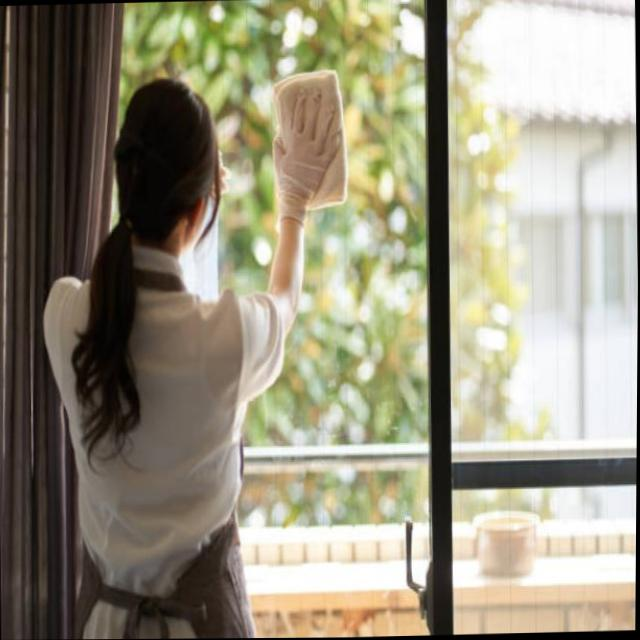no helmet: (113, 69, 221, 259)
